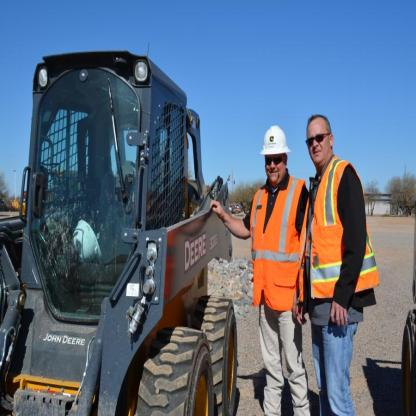person: (211, 118, 306, 414), (299, 110, 380, 413)
